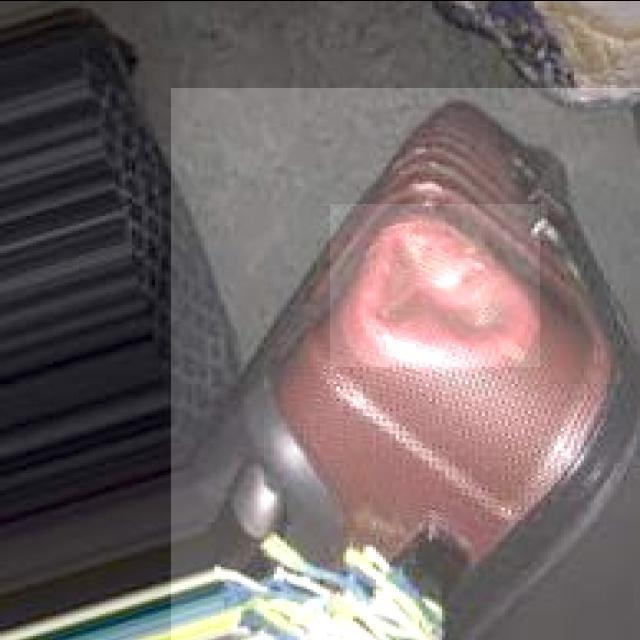Damage-bag: (341, 216, 540, 367)
